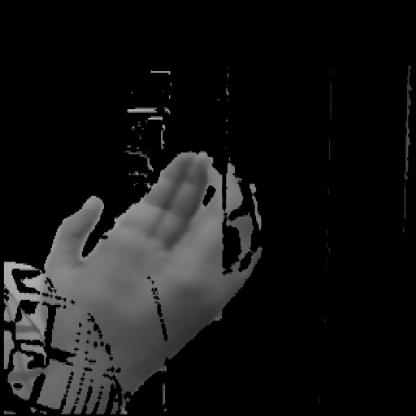dua: (26, 125, 298, 398)
